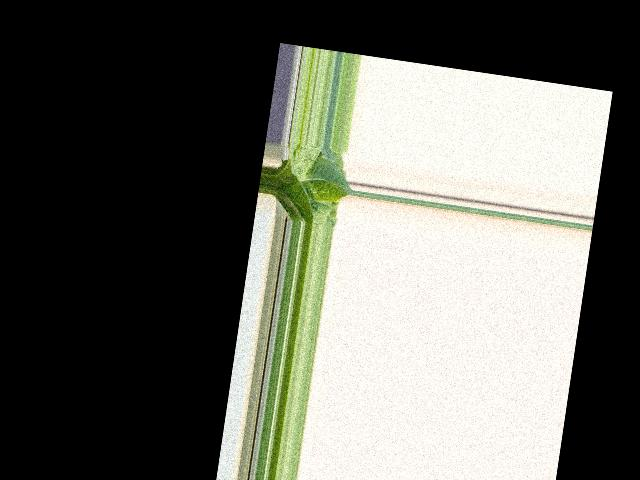lettuce: (269, 148, 349, 226)
